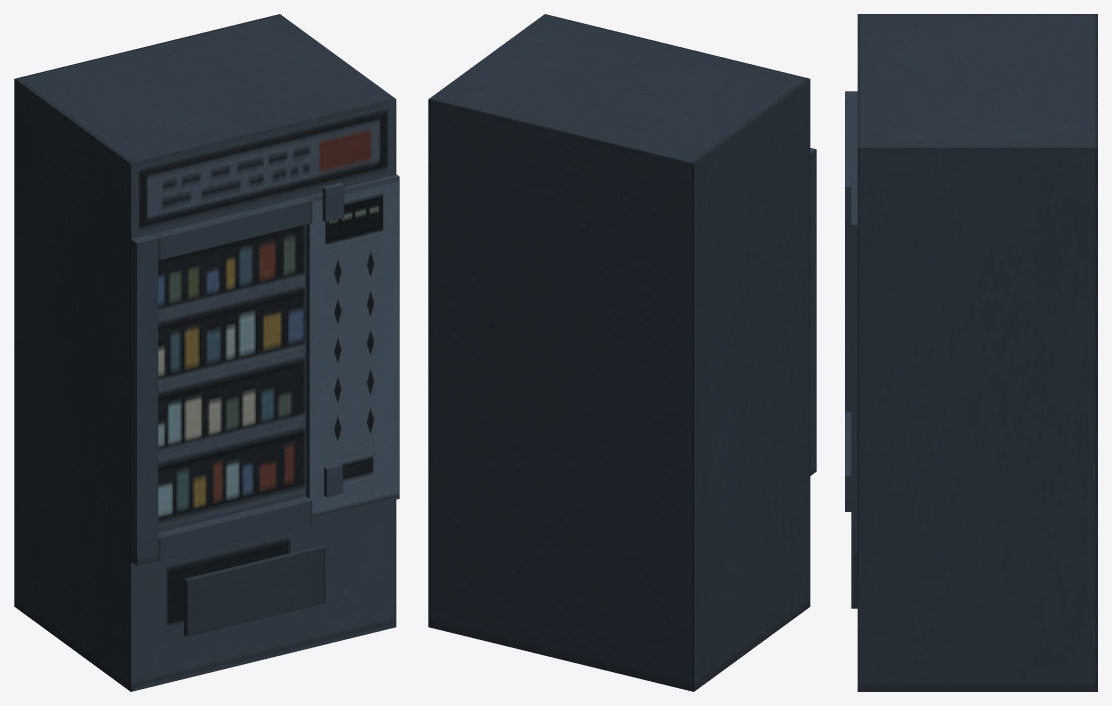
File: vending_machine.glb
3 renders of one model, left to right at view 1: azimuth 30°, elevation 25°; view 2: azimuth 150°, elevation 25°; view 3: azimuth 270°, elevation 25°, orthographic. The views are drawn at different scales.
Visible parts, largest first — view 1: core_vending_machine; view 2: core_vending_machine; view 3: core_vending_machine.
Part boxes in pixels (x1,y1,x2,y2): core_vending_machine: [14, 14, 399, 691]; core_vending_machine: [428, 14, 816, 691]; core_vending_machine: [845, 14, 1097, 691].
Bounding box in the file's own units: 1 × 1.9 × 0.8.
Materials: 1 (1 with a texture image).
